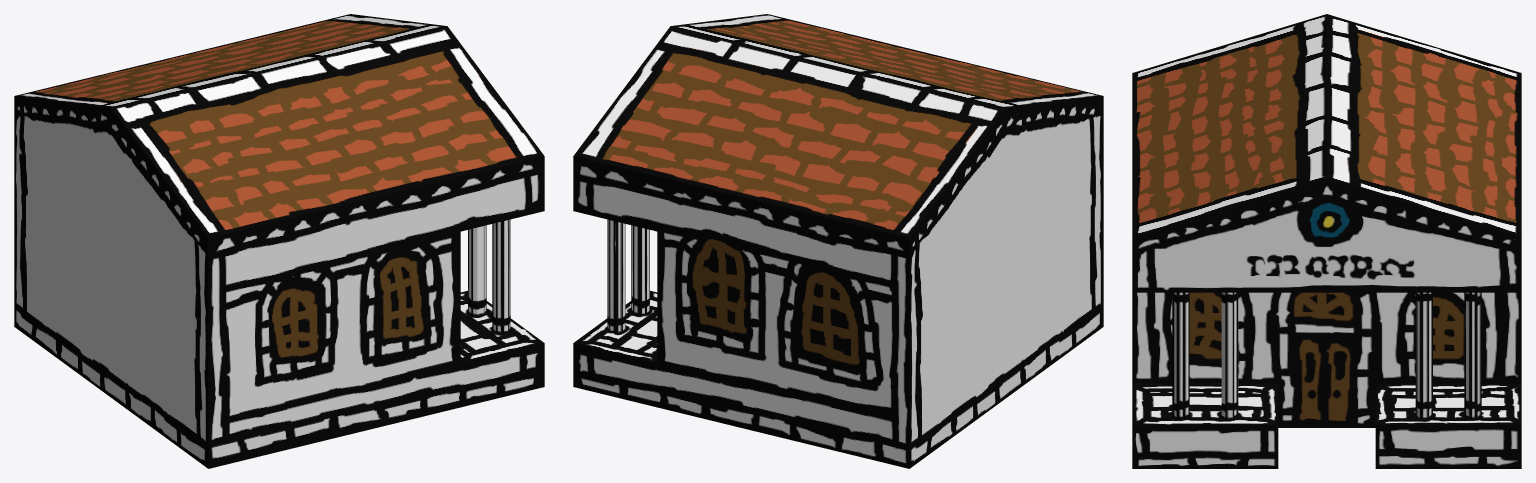
Rendered from SM_TownHall.fbx.
3 renders of one model, left to right at view 1: azimuth 30°, elevation 25°; view 2: azimuth 150°, elevation 25°; view 3: azimuth 270°, elevation 25°, orthographic.
Parts seen in each view (by area): view 1: pCube5; view 2: pCube5; view 3: pCube5.
Boxes of the visible parts, x1=… form: pCube5: x1=14, y1=14, x2=544, y2=468; pCube5: x1=573, y1=14, x2=1103, y2=468; pCube5: x1=1132, y1=14, x2=1521, y2=468.
Bounding box in the file's own units: 800 × 659 × 800.
